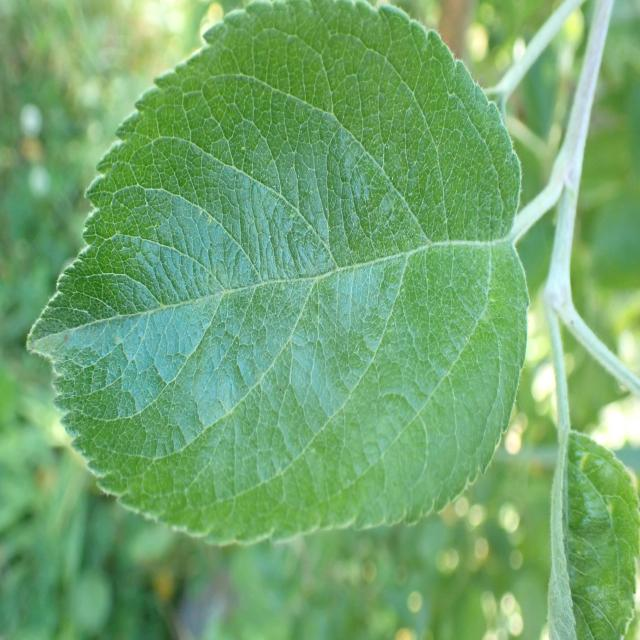healthy: (26, 1, 530, 546), (546, 430, 640, 639)
